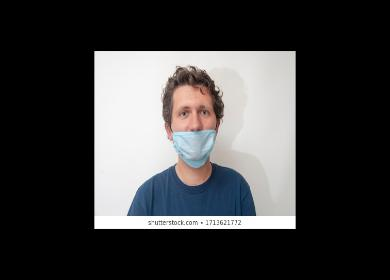mask_weared_incorrect: (172, 95, 217, 163)
